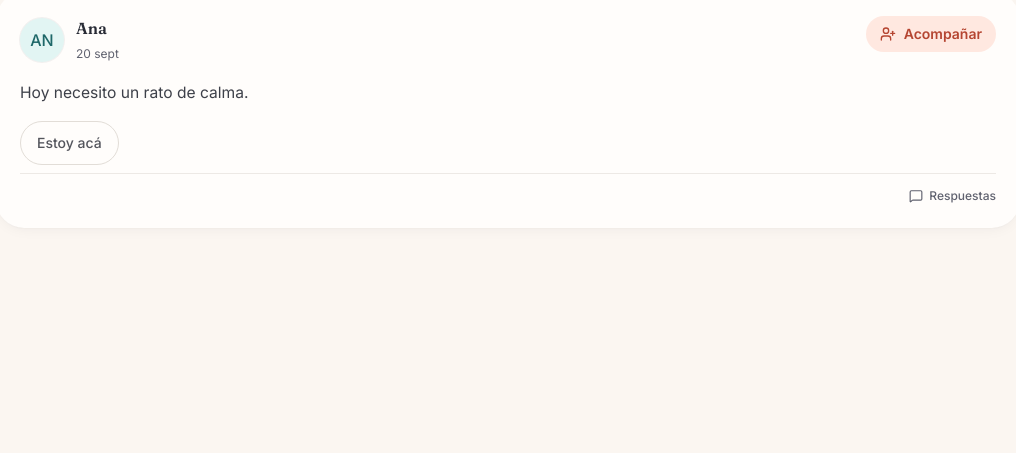
Test case: PostCard responses › selects READING and shows the listening count
What coordinates should you click on to do the following:
click the button "Estoy acá"
I would click on:
 (69, 143)
Its box is top-left (20, 121), bottom-right (119, 165).
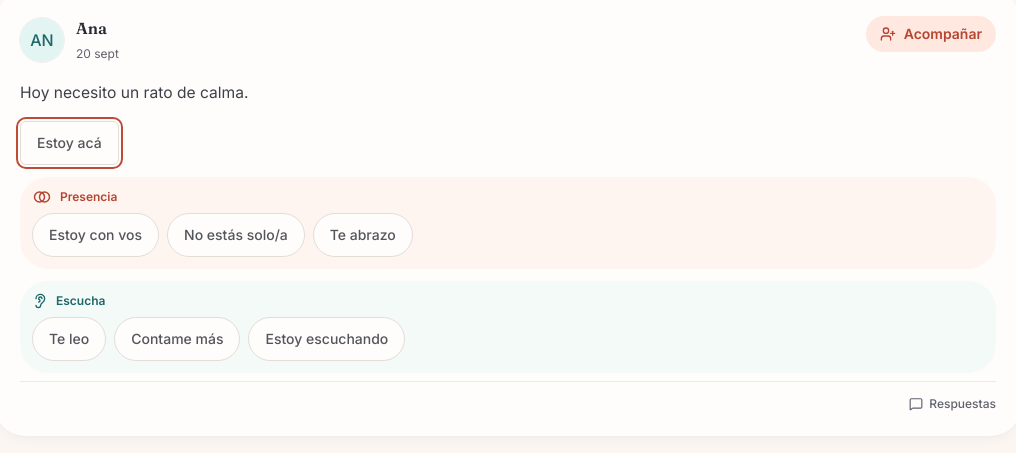
What coordinates should you click on to do the following:
click the button "Te leo"
I would click on:
 (69, 339)
Its box is top-left (32, 317), bottom-right (106, 361).
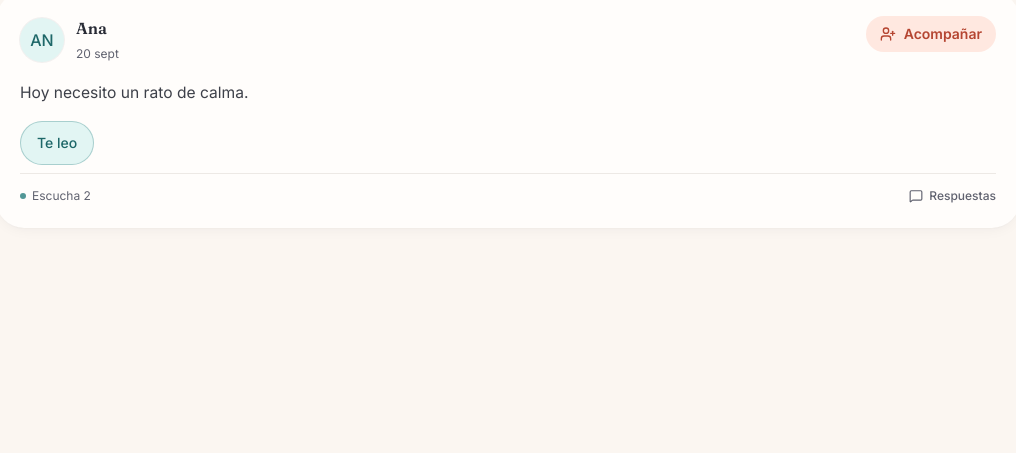
Expected: the button "Te leo" is shown, top-left (20, 121), bottom-right (94, 165)
Expected: the text "Escucha 2" is shown, top-left (20, 188), bottom-right (91, 204)
